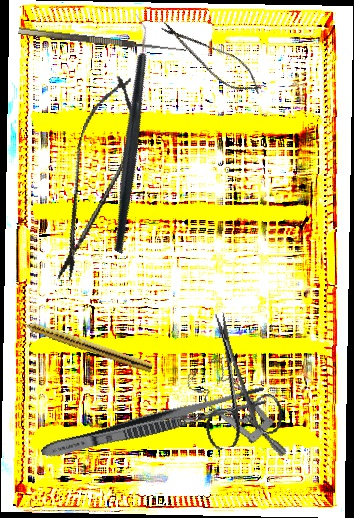Chopper: (33, 12, 223, 255)
Dressing Forceps: (38, 382, 269, 465)
Handpiece: (12, 313, 155, 374)
Hook Surgical: (18, 18, 188, 55)
Iris Scissors: (179, 304, 288, 452)
Micro Scissor: (40, 67, 150, 290), (152, 13, 271, 104)
Speculum: (181, 345, 289, 480)
